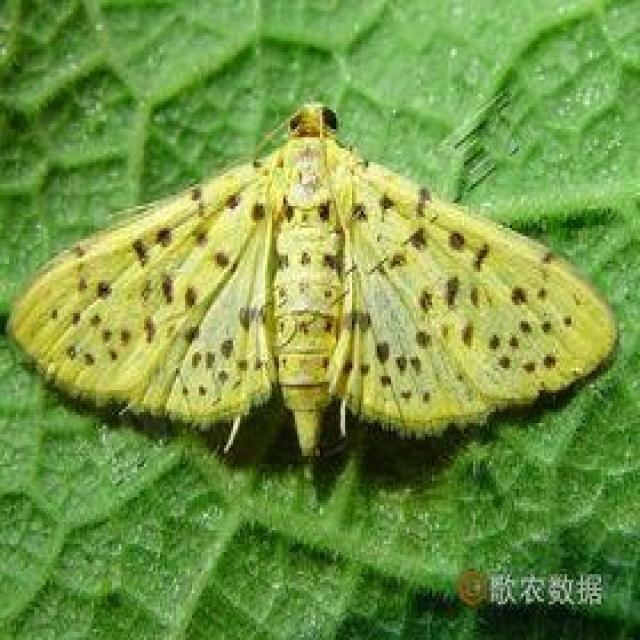peach borer: (5, 100, 629, 468)
